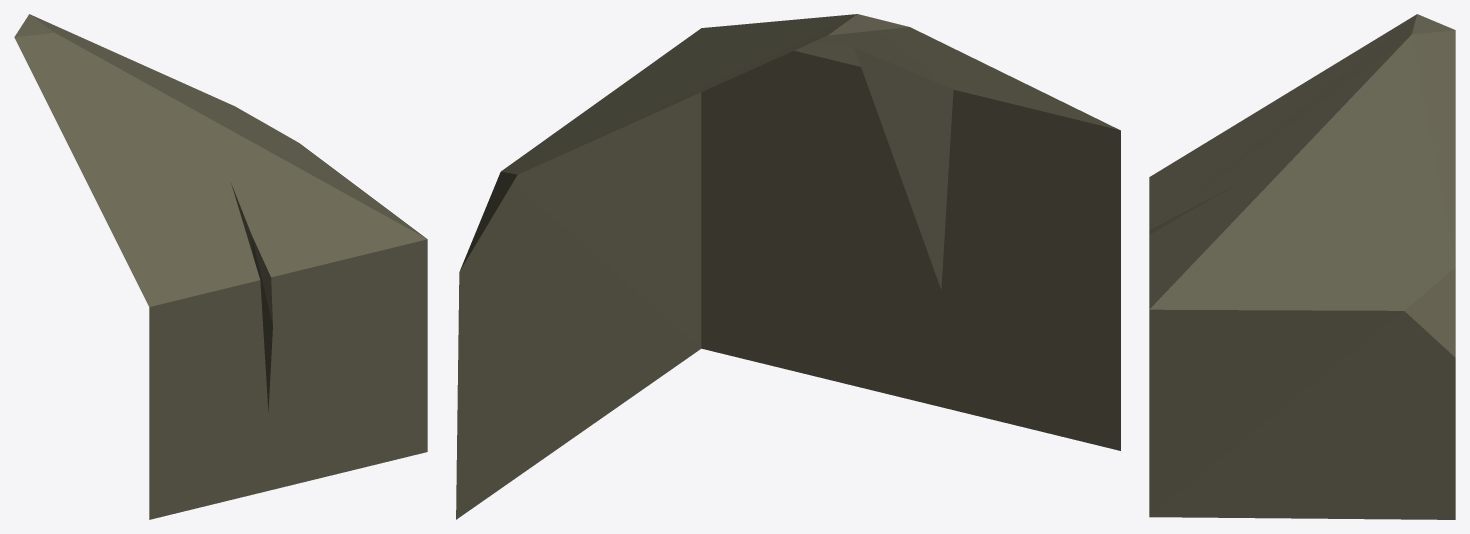
File: OC_DECOWALL_02.OBJ
3 views of the same model, side by side, from view 1: azimuth 30°, elevation 25°; view 2: azimuth 150°, elevation 25°; view 3: azimuth 270°, elevation 25° (orthographic). The views are drawn at different scales.
Parts seen in each view (by area): view 1: OC_DECOWALL_02; view 2: OC_DECOWALL_02; view 3: OC_DECOWALL_02.
Part boxes in pixels (bbox=[...]): OC_DECOWALL_02: bbox=[14, 14, 427, 519]; OC_DECOWALL_02: bbox=[456, 14, 1120, 519]; OC_DECOWALL_02: bbox=[1149, 14, 1455, 519].
Size of the model in its own units: 1.57 by 2.01 by 1.5.
